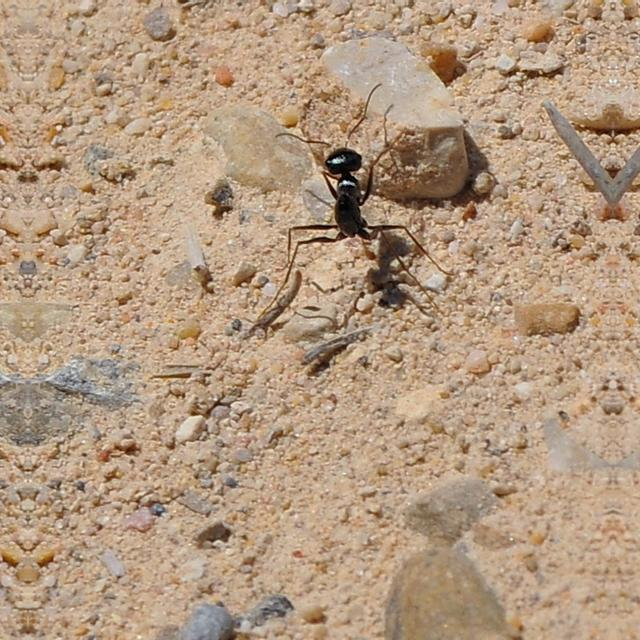Cataglyphis: (308, 130, 392, 256)
